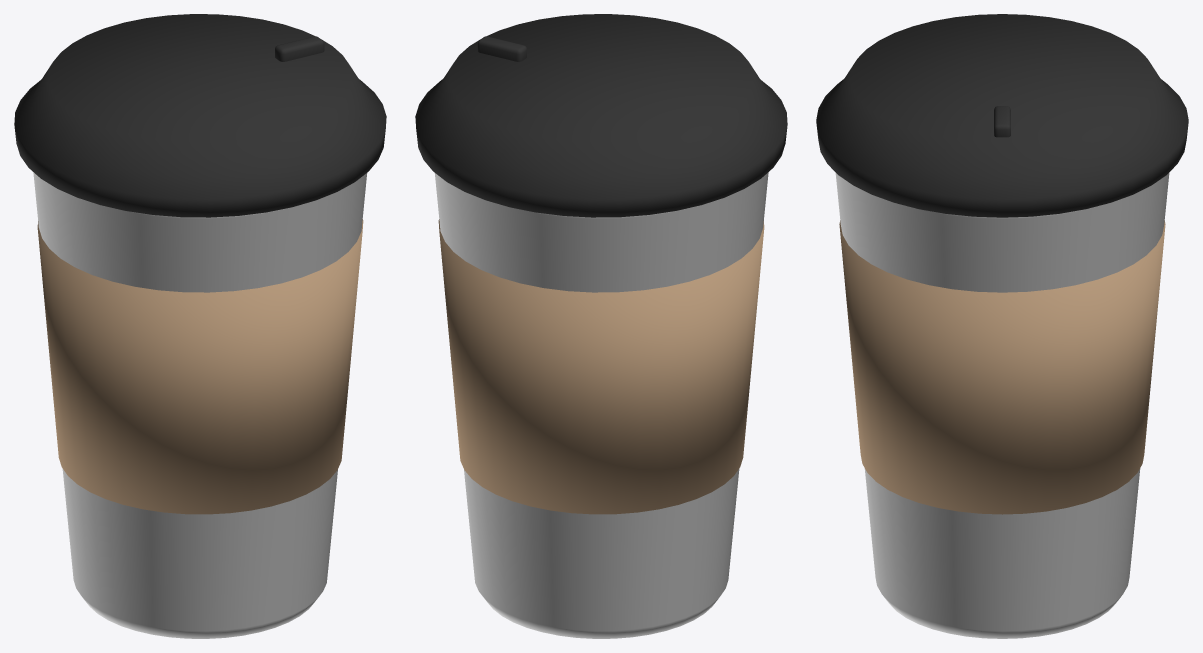
File: SM_Coffee.glb
3 renders of one model, left to right at view 1: azimuth 30°, elevation 25°; view 2: azimuth 150°, elevation 25°; view 3: azimuth 270°, elevation 25°, orthographic.
Parts seen in each view (by area): view 1: SM_Coffee; view 2: SM_Coffee; view 3: SM_Coffee.
Boxes of the visible parts, x1,y1,x2,y2 form: SM_Coffee: [14, 14, 386, 638]; SM_Coffee: [415, 14, 787, 638]; SM_Coffee: [816, 14, 1188, 638].
Size of the model in its own units: 0.088 by 0.136 by 0.088.
